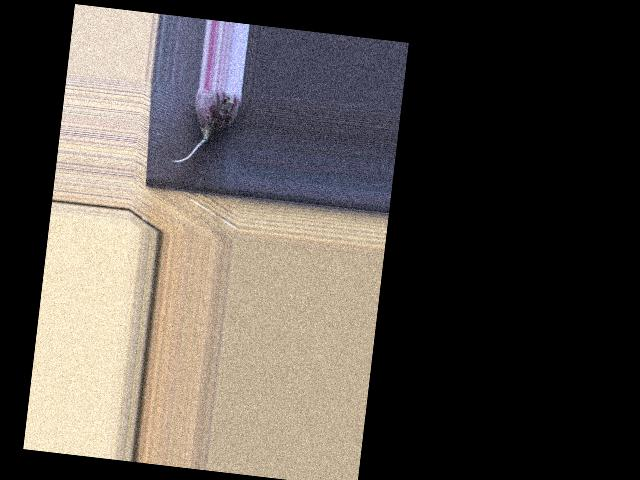beet: (172, 85, 242, 169)
